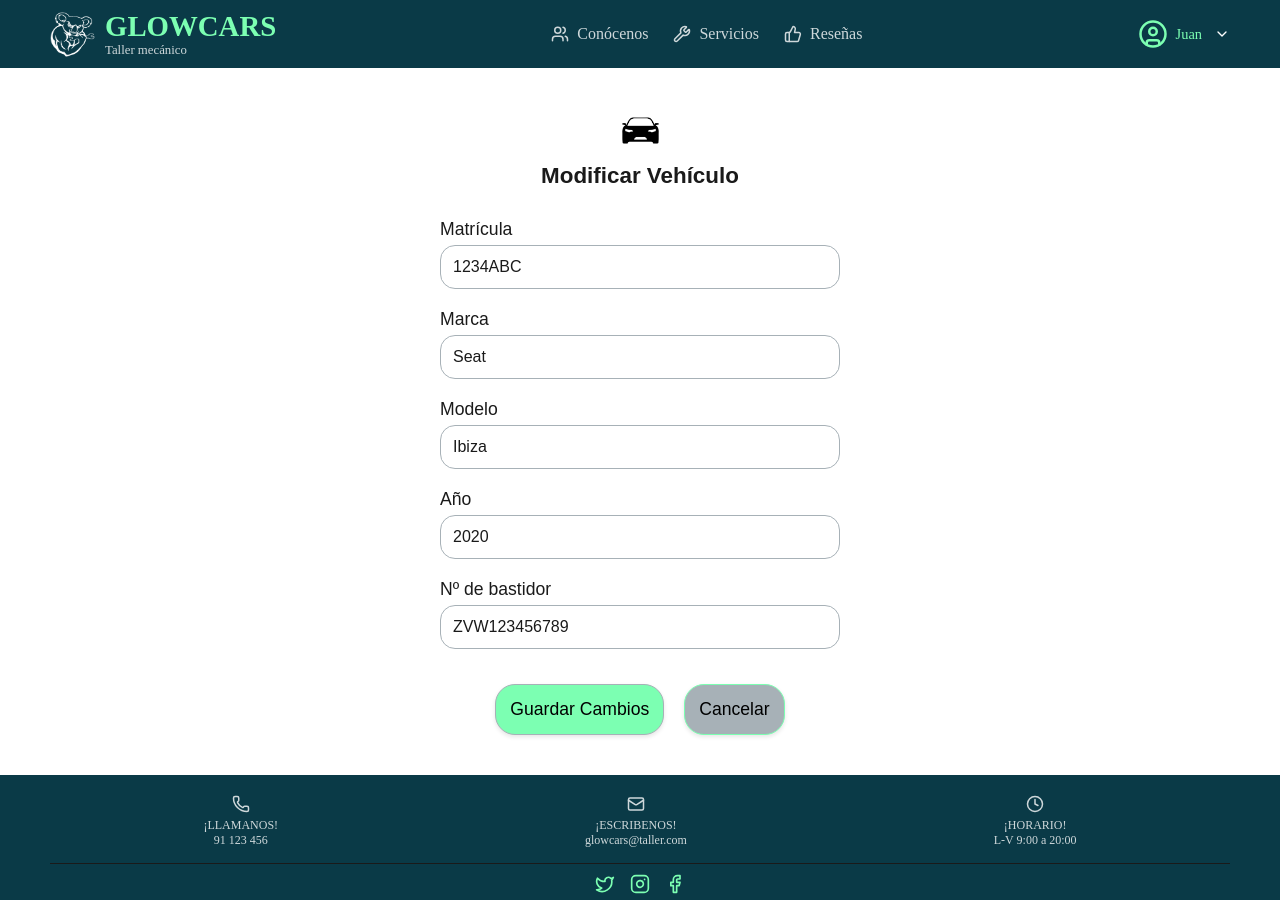
Test: Pruebas en <ModificarVehiculo /> › debe mostrar el modal de éxito tras una actualización correcta
Click the button "Guardar Cambios" at point(580, 710), box [495, 684, 664, 735]
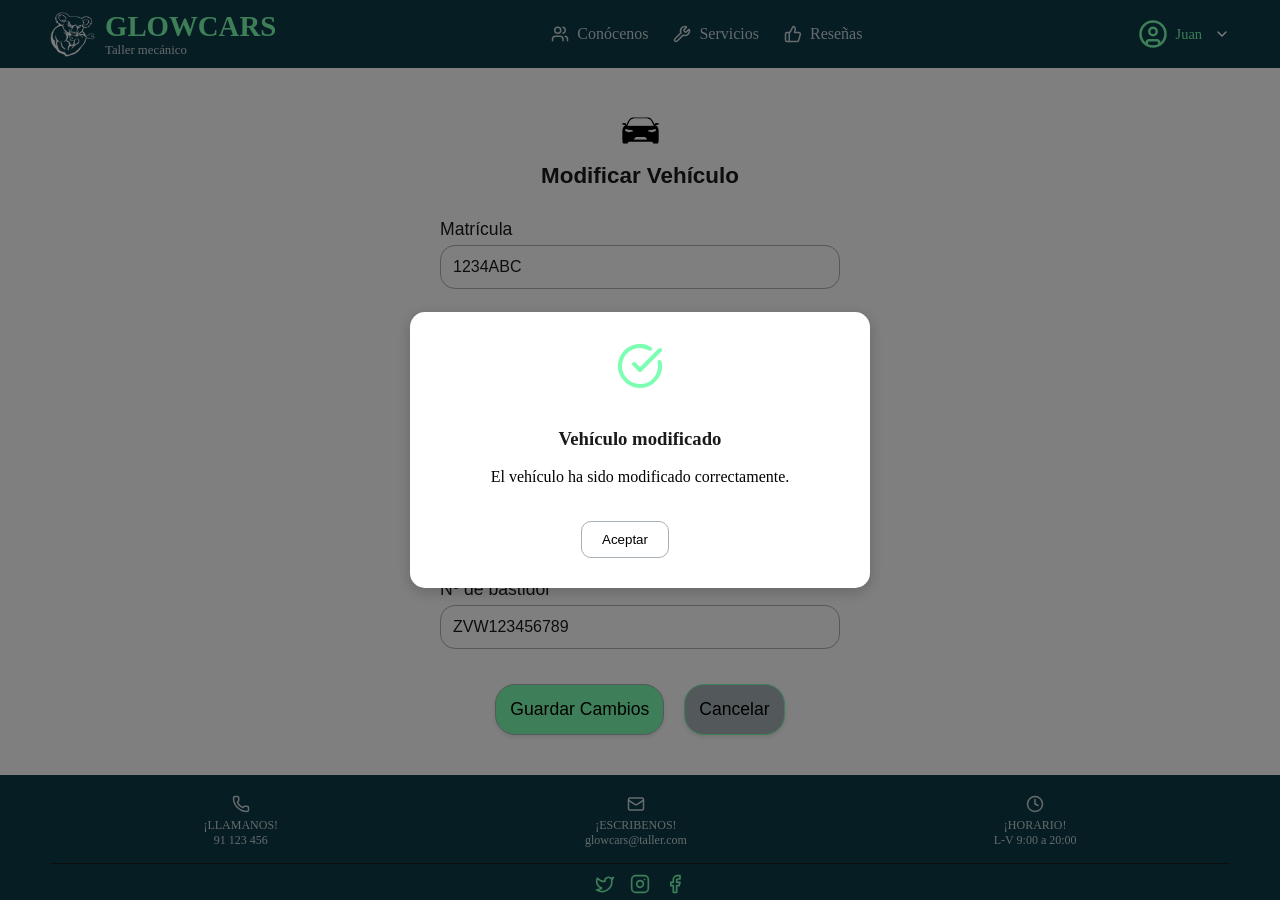
Expected: the heading "Vehículo modificado" is shown, [558, 428, 722, 448]
